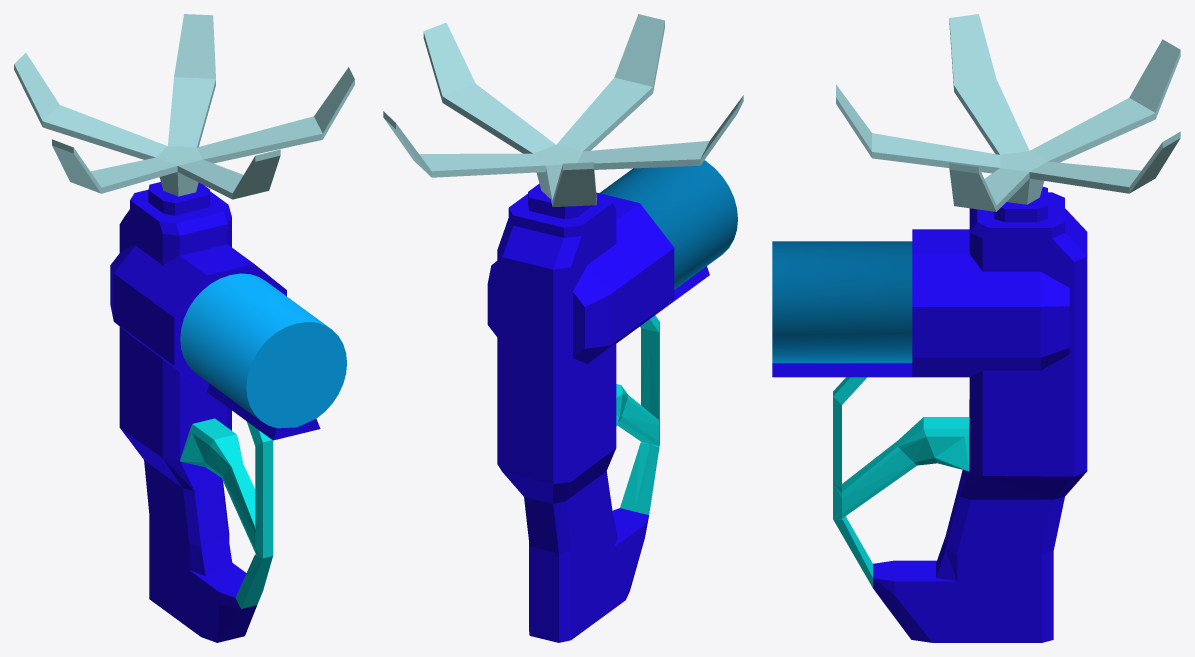
The model's file is gameGrappler 1.fbx.
The picture shows the model from 3 angles, left to right: view 1: azimuth 30°, elevation 25°; view 2: azimuth 150°, elevation 25°; view 3: azimuth 270°, elevation 25°; orthographic projection. The views are drawn at different scales.
Parts seen in each view (by area): view 1: Cylinder.001, Cone; view 2: Cylinder.001, Cone; view 3: Cylinder.001, Cone.
Boxes of the visible parts, left/top/right/bottom form: Cylinder.001: left=110, top=182, right=346, bottom=642; Cone: left=14, top=14, right=354, bottom=199; Cylinder.001: left=487, top=160, right=737, bottom=642; Cone: left=383, top=14, right=743, bottom=207; Cylinder.001: left=772, top=186, right=1087, bottom=642; Cone: left=836, top=14, right=1180, bottom=211.
Size of the model in its own units: 873 by 1442 by 984.
